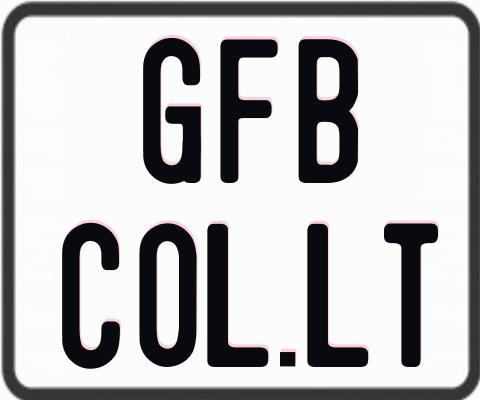0: (137, 220, 197, 370)
B: (297, 36, 360, 181)
C: (61, 220, 125, 370)
F: (217, 38, 279, 184)
G: (143, 37, 204, 183)
L: (304, 222, 368, 369), (206, 224, 267, 368)
T: (381, 222, 440, 366)
